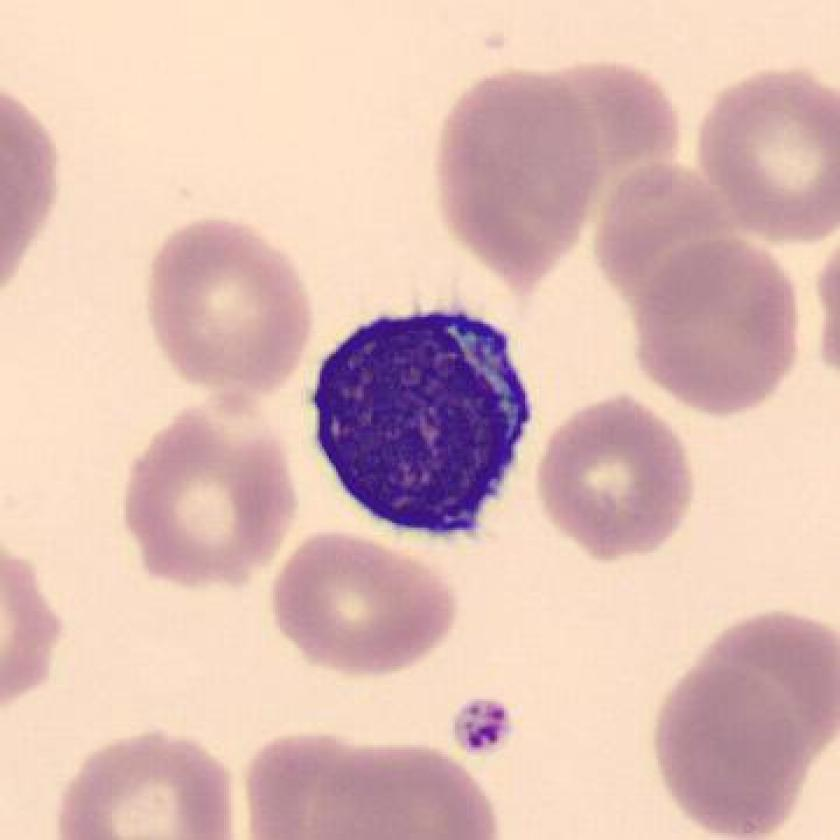lymphocyte: (293, 290, 549, 552)
